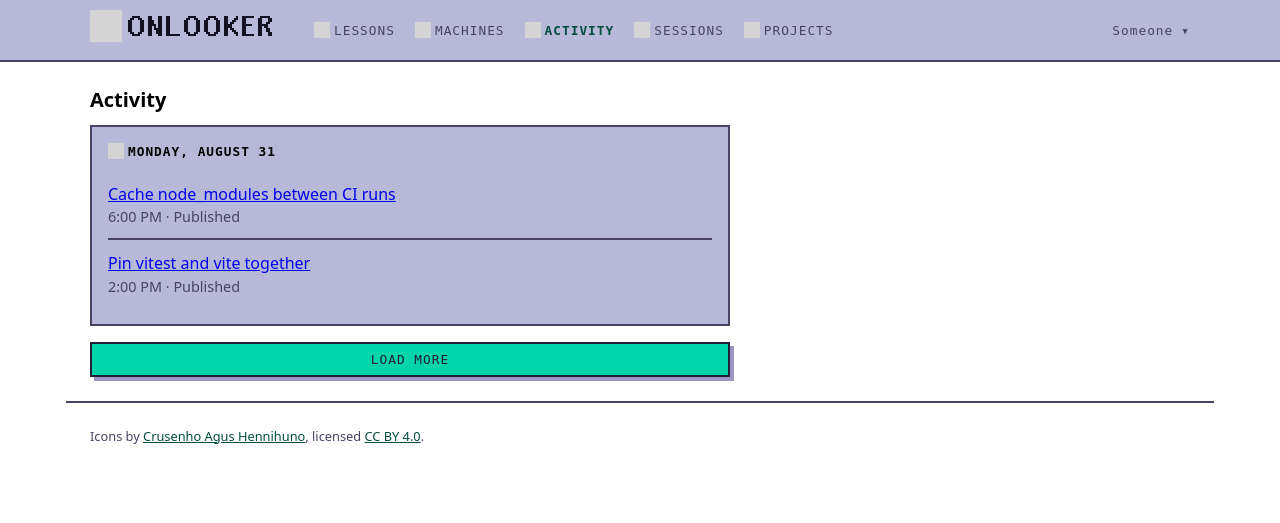
it: /activity pagination › keeps the loaded events when an append fails
Step 1. Click the button "Load more" → [410, 359], box [90,342,730,377]
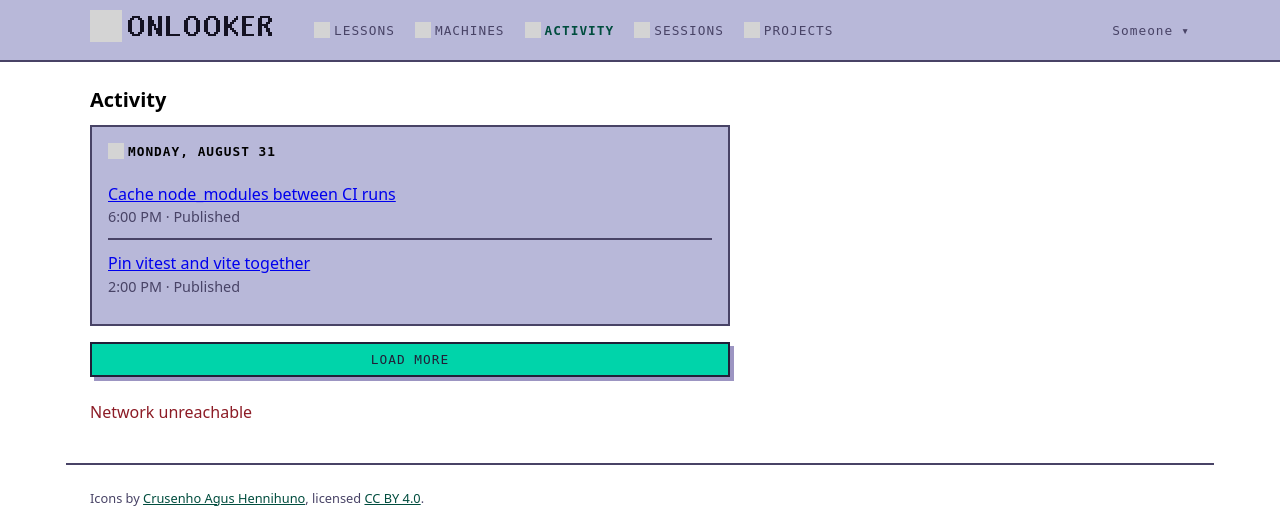
Expected: the link "Cache node_modules between CI runs" is shown, [108,183,396,205]
Expected: the text "Network unreachable" is shown, [90,401,252,423]
